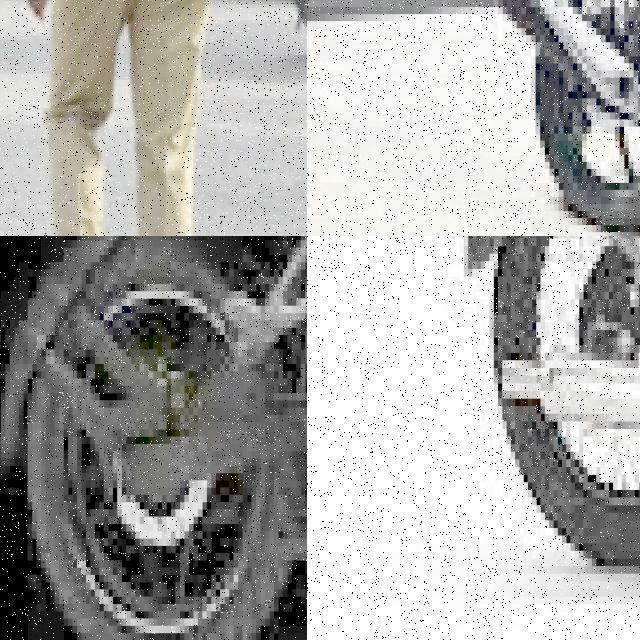bike: (0, 236, 307, 640), (434, 236, 640, 612), (488, 0, 640, 236)
